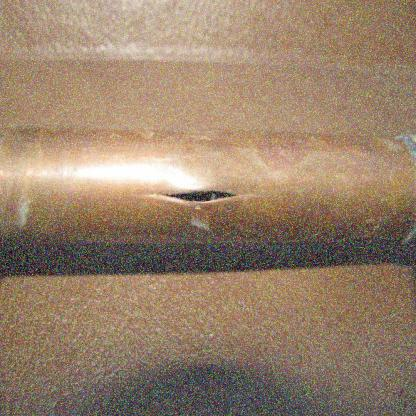burst: (142, 179, 251, 228)
